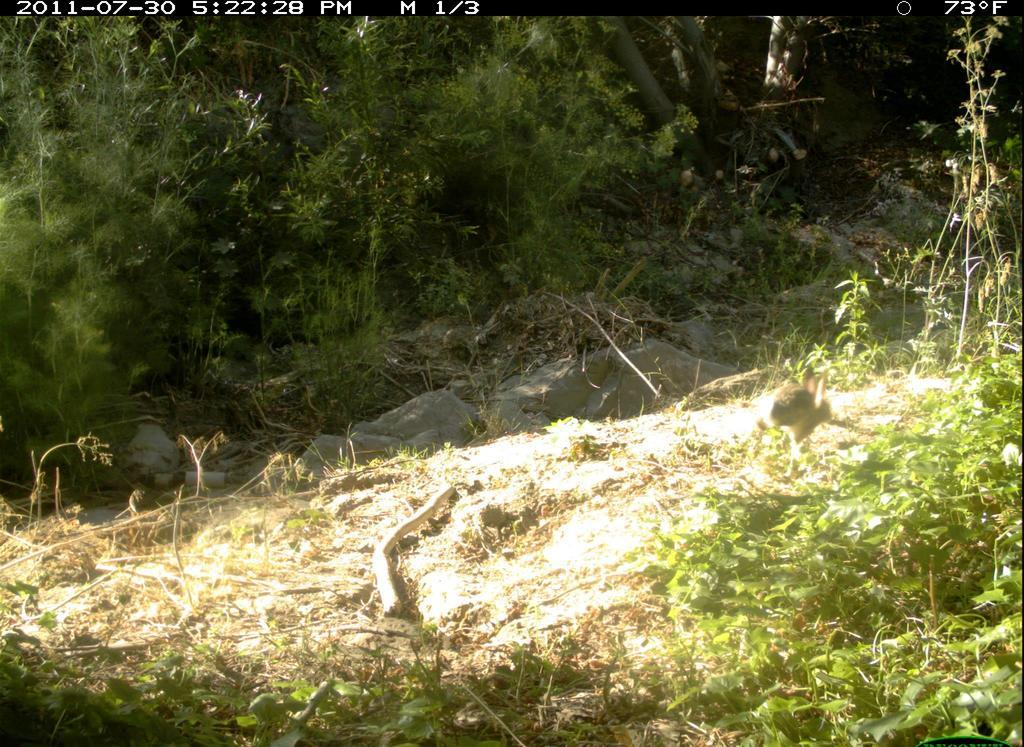rabbit: (758, 364, 847, 463)
